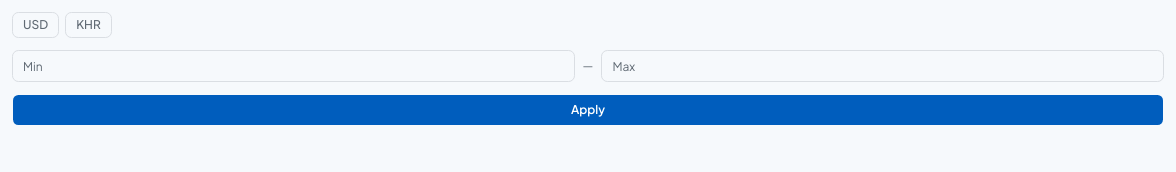
Scenario: <PriceRangeFilter /> › refuses a minimum higher than the maximum and explains why
The image size is (1176, 172).
Type "900" into the number field named "Minimum price".
click(293, 66); type("900")  # box top-left (12, 50), bottom-right (575, 82)
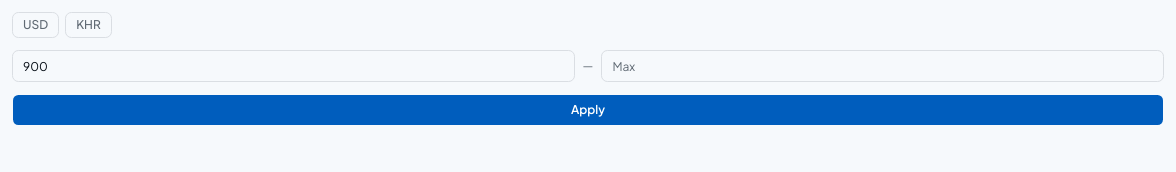
Type "100" into the number field named "Maximum price".
click(883, 66); type("100")  # box top-left (601, 50), bottom-right (1164, 82)
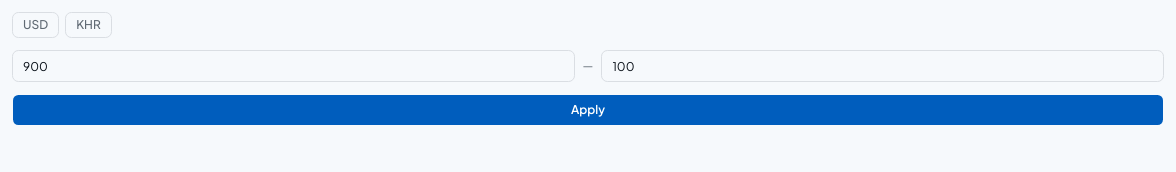
Click the button "Apply".
click(588, 110)  # box top-left (12, 94), bottom-right (1164, 126)
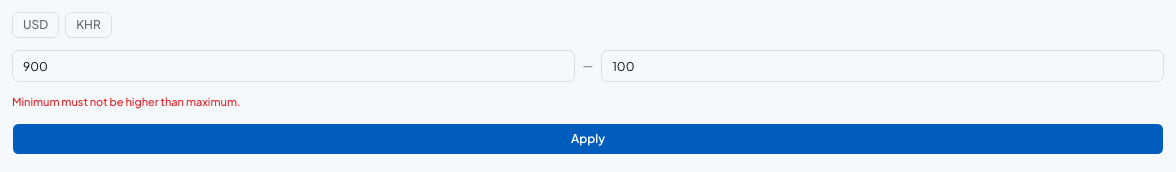
Now the message shows "Minimum", box top-left (12, 95), bottom-right (240, 108)
